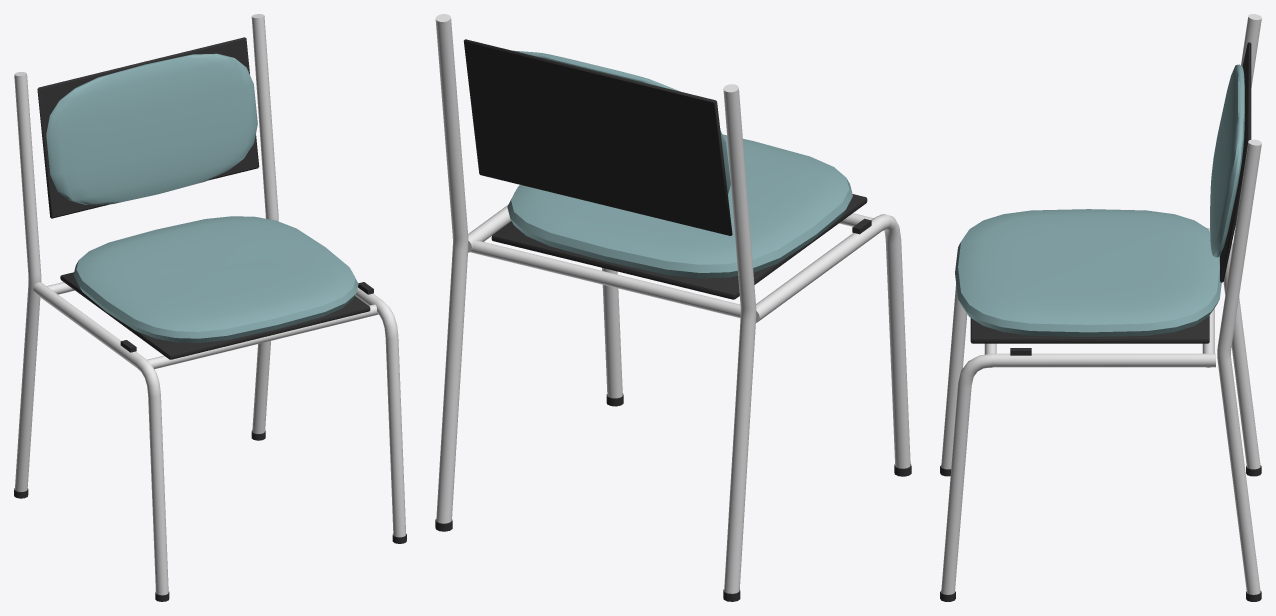
The model's file is Kit_StackChair_Teal.fbx.
3 views of the same model, side by side, from view 1: azimuth 30°, elevation 25°; view 2: azimuth 150°, elevation 25°; view 3: azimuth 270°, elevation 25° (orthographic). The views are drawn at different scales.
Parts seen in each view (by area): view 1: Kit_StackChair_LOD0; view 2: Kit_StackChair_LOD0; view 3: Kit_StackChair_LOD0.
Boxes of the visible parts, x1,y1,x2,y2 form: Kit_StackChair_LOD0: (14, 14, 406, 601); Kit_StackChair_LOD0: (435, 14, 911, 601); Kit_StackChair_LOD0: (940, 14, 1261, 601).
Size of what is drawn, in the model's own units: 0.4958 by 0.8014 by 0.5112.
